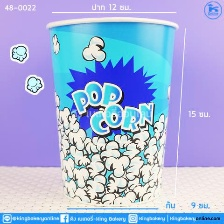paper_cup: (42, 12, 182, 209)
